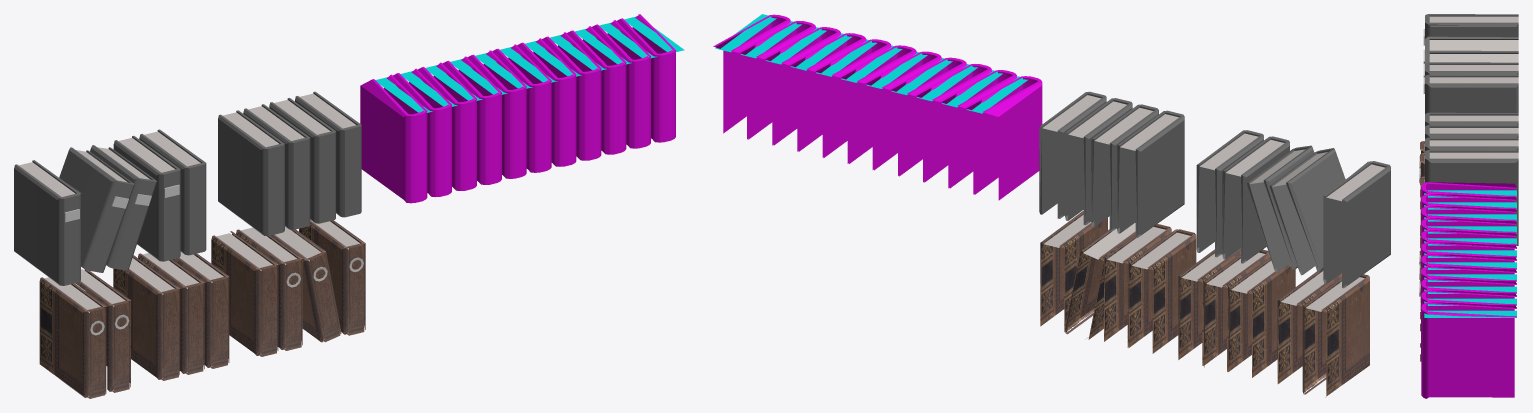
File: Block_EKF.fbx
The picture shows the model from 3 angles, left to right: view 1: azimuth 30°, elevation 25°; view 2: azimuth 150°, elevation 25°; view 3: azimuth 270°, elevation 25°; orthographic projection.
Parts seen in each view (by area): view 1: Block_EKF; view 2: Block_EKF; view 3: Block_EKF.
Part boxes in pixels (x1,y1,x2,y2): Block_EKF: (14, 14, 684, 398); Block_EKF: (713, 14, 1390, 397); Block_EKF: (1419, 14, 1518, 398).
Size of the model in its own units: 259 by 82.83 by 35.95.
